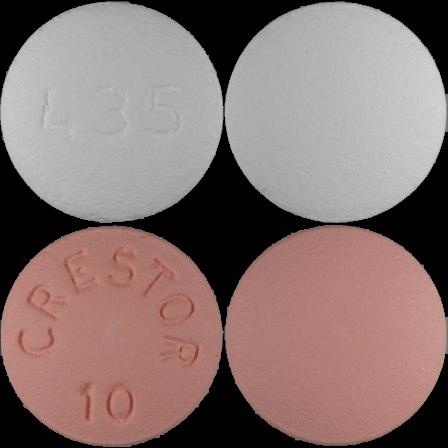55289-934: (0, 0, 224, 224)
